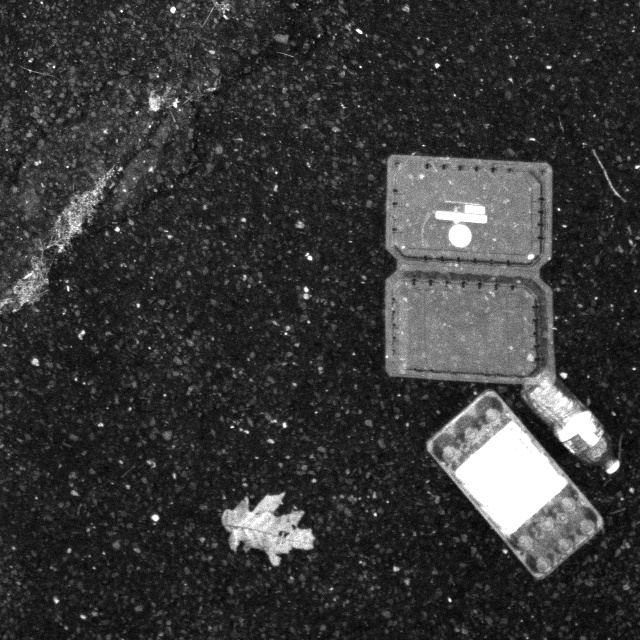bottle: (517, 364, 636, 483)
container: (370, 149, 577, 391), (424, 376, 613, 579)
